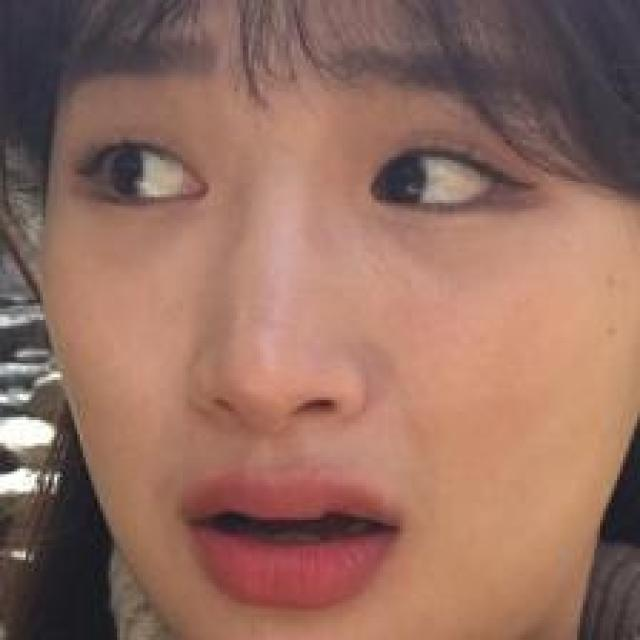fear: (57, 17, 563, 632)
